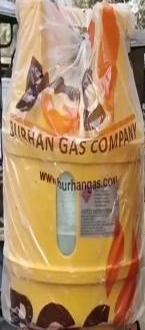cylinder: (1, 1, 145, 330)
